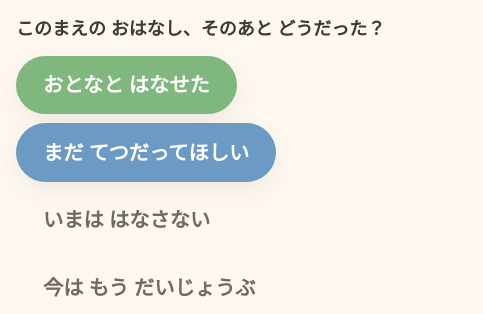
Test: shows the confirmed result for not_now: この おはなしを こちらから きくのは おやすみするね。てつだってほしい ときは、いつでも いってね。
Click the button "いまは はなさない": point(127, 220) [16,190,237,249]
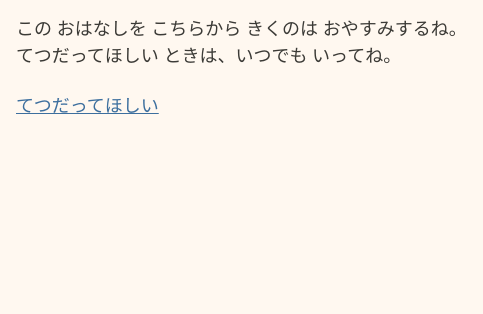
Now the message reads "この おはなしを こちらから きくのは おやすみするね。てつだってほしい ときは、いつでも いってね。", box [16,16,467,67]
